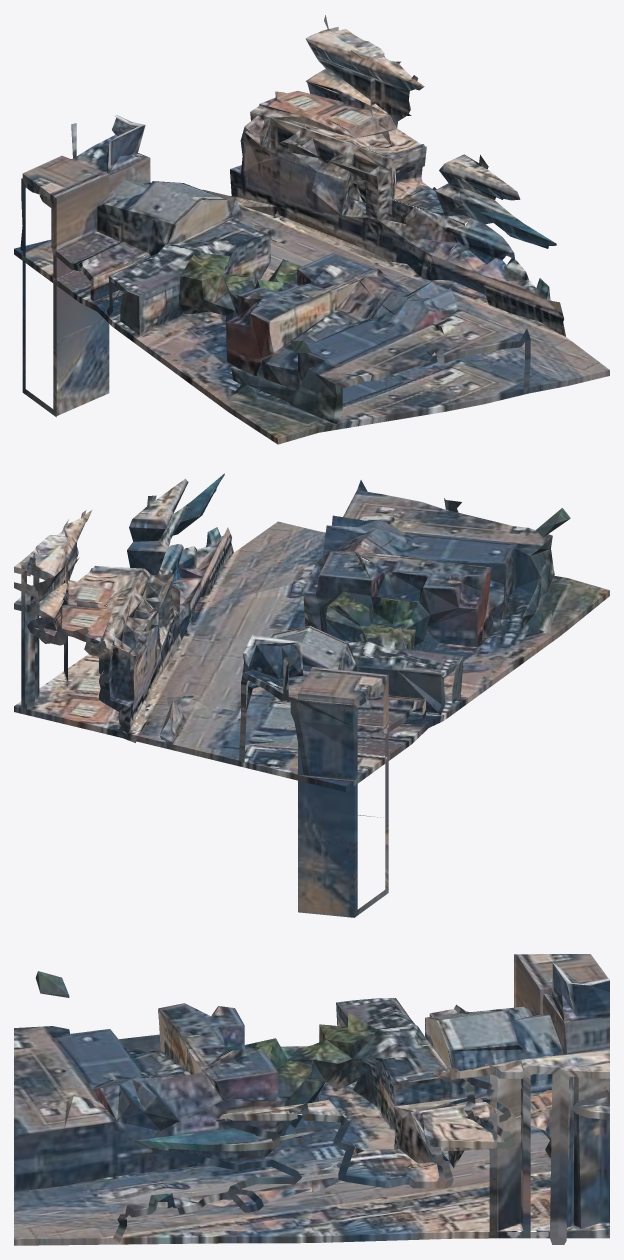
The model's file is chunk_-4_-7.glb.
The picture shows the model from 3 angles, top to bottom: view 1: azimuth 30°, elevation 25°; view 2: azimuth 150°, elevation 25°; view 3: azimuth 270°, elevation 25°; orthographic projection. The views are drawn at different scales.
Parts seen in each view (by area): view 1: hero-chunk; view 2: hero-chunk; view 3: hero-chunk.
Part boxes in pixels (x1,y1,x2,y2): hero-chunk: [14, 15, 609, 444]; hero-chunk: [14, 473, 609, 917]; hero-chunk: [14, 954, 609, 1245].
Bounding box in the file's own units: 55.42 × 47.2 × 76.32.
1 material, 1 textured.
